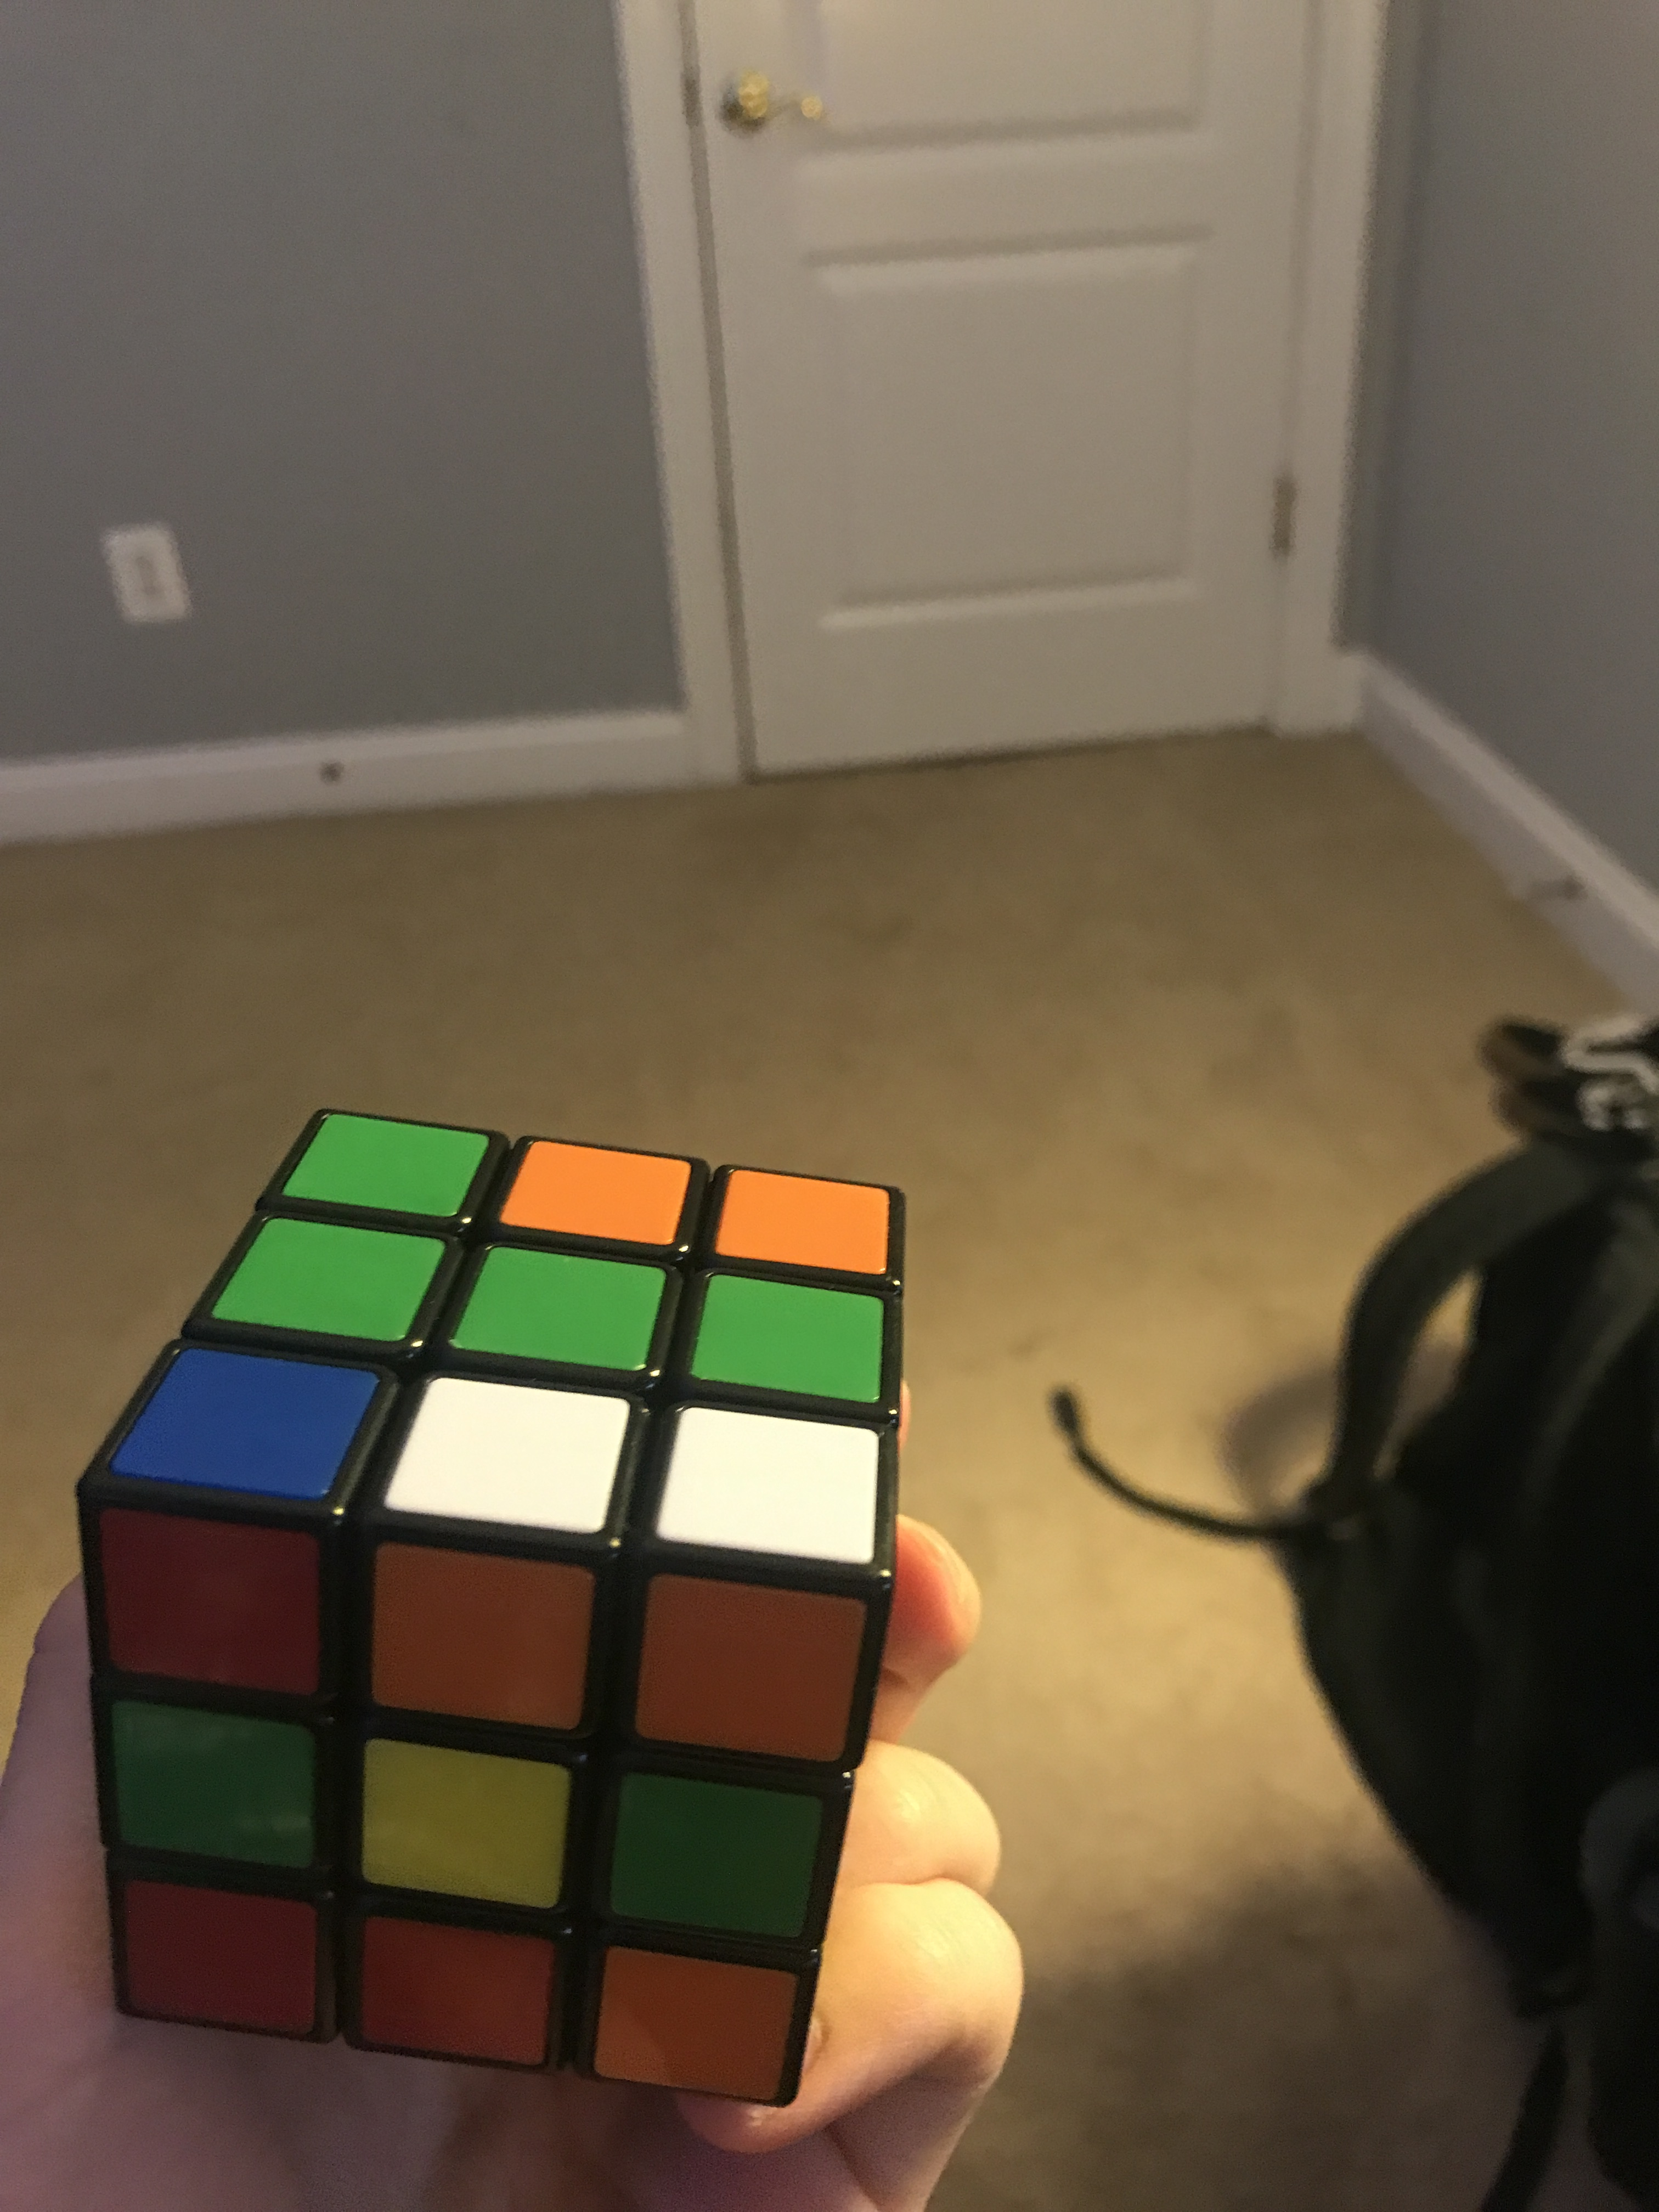rubiks: (78, 1108, 911, 2125)
